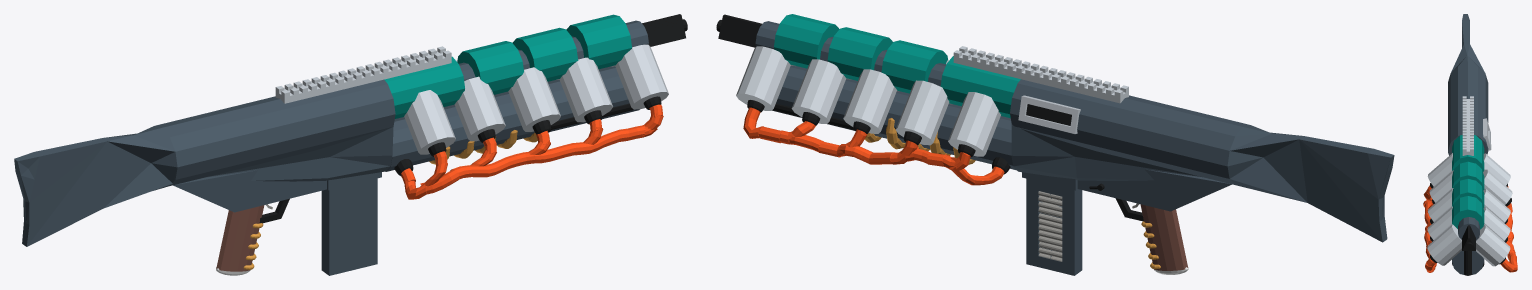
The model's file is weapon_plasma.glb.
The picture shows the model from 3 angles, left to right: view 1: azimuth 30°, elevation 25°; view 2: azimuth 150°, elevation 25°; view 3: azimuth 270°, elevation 25°; orthographic projection. The views are drawn at different scales.
Visible parts, largest first — view 1: group1975196824; view 2: group1975196824; view 3: group1975196824.
Part boxes in pixels (x1,y1,x2,y2): group1975196824: (14,14,687,275); group1975196824: (716,14,1394,275); group1975196824: (1423,14,1517,275).
Bounding box in the file's own units: 2.5 × 0.69 × 0.4685.
Materials: 1 (1 with a texture image).
